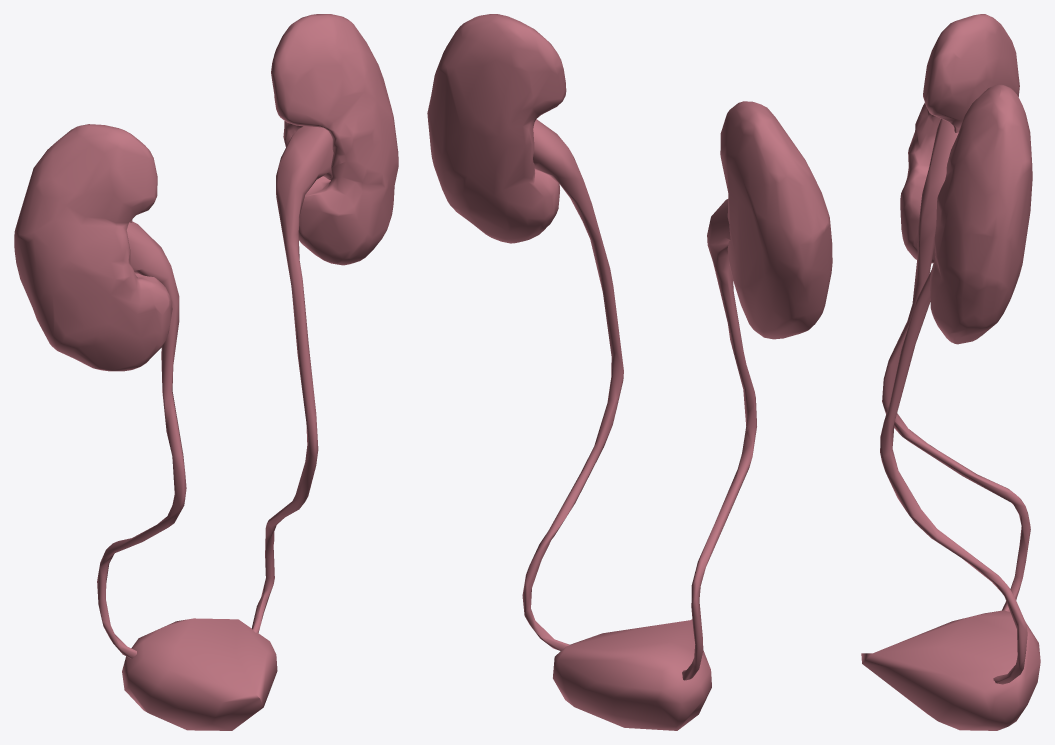
Rendered from urinary.glb.
The picture shows the model from 3 angles, left to right: view 1: azimuth 30°, elevation 25°; view 2: azimuth 150°, elevation 25°; view 3: azimuth 270°, elevation 25°; orthographic projection. The views are drawn at different scales.
Parts seen in each view (by area): view 1: FJ3147, FJ3145, FJ3149, FJ3144, FJ3146; view 2: FJ3145, FJ3147, FJ3149, FJ3144, FJ3146; view 3: FJ3145, FJ3149, FJ3147, FJ3146, FJ3144.
Boxes of the visible parts, x1,y1,x2,y2 form: FJ3147: [14, 124, 172, 371]; FJ3145: [271, 14, 398, 265]; FJ3149: [122, 618, 277, 730]; FJ3144: [251, 126, 333, 632]; FJ3146: [97, 221, 186, 658]; FJ3145: [427, 14, 566, 243]; FJ3147: [720, 101, 832, 339]; FJ3149: [553, 619, 711, 730]; FJ3144: [522, 119, 623, 650]; FJ3146: [682, 199, 756, 680]; FJ3145: [929, 84, 1032, 344]; FJ3149: [861, 610, 1040, 730]; FJ3147: [900, 14, 1019, 263]; FJ3146: [882, 118, 1030, 611]; FJ3144: [880, 270, 1027, 684].
Size of the model in its own units: 0.178 by 0.3007 by 0.0706.
